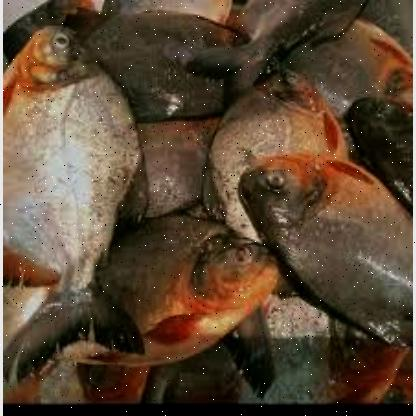ikan-pacu: (1, 22, 128, 286), (237, 151, 411, 336), (88, 213, 276, 367)
